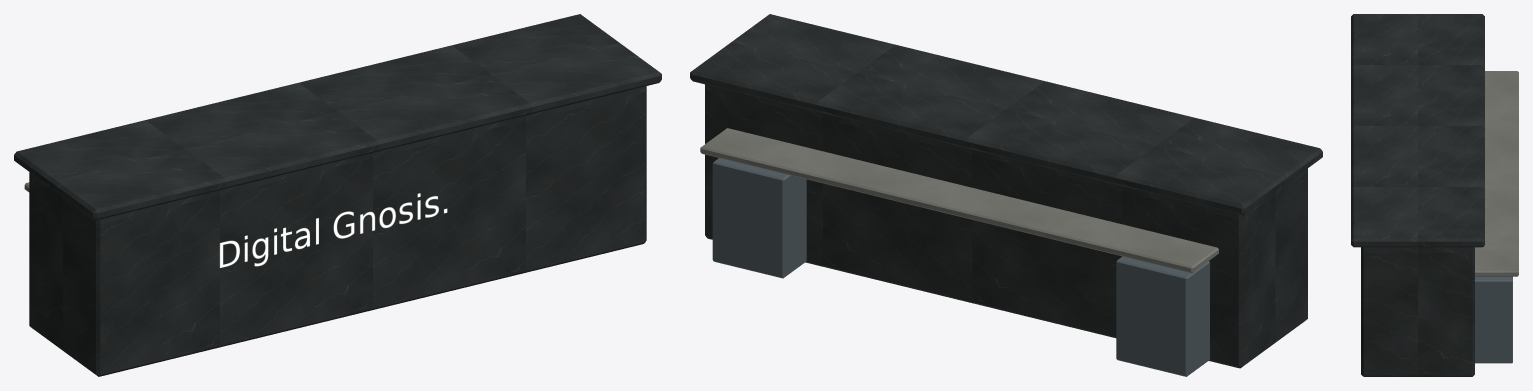
File: ReceptionDesk.glb
3 renders of one model, left to right at view 1: azimuth 30°, elevation 25°; view 2: azimuth 150°, elevation 25°; view 3: azimuth 270°, elevation 25°, orthographic. The views are drawn at different scales.
Visible parts, largest first — view 1: ReceptionDesk__BlackMarble__mesh, ReceptionDesk__Wordmark__mesh; view 2: ReceptionDesk__BlackMarble__mesh, ReceptionDesk__BlackenedSteel__mesh, ReceptionDesk__GraphiteLaminate__mesh; view 3: ReceptionDesk__BlackMarble__mesh, ReceptionDesk__GraphiteLaminate__mesh, ReceptionDesk__BlackenedSteel__mesh.
Boxes of the visible parts, box(x1,y1,x2,y2) form: ReceptionDesk__BlackMarble__mesh: box(14, 14, 661, 376); ReceptionDesk__Wordmark__mesh: box(220, 193, 447, 267); ReceptionDesk__BlackMarble__mesh: box(690, 14, 1322, 368); ReceptionDesk__BlackenedSteel__mesh: box(712, 158, 1209, 376); ReceptionDesk__GraphiteLaminate__mesh: box(700, 128, 1218, 273); ReceptionDesk__BlackMarble__mesh: box(1351, 14, 1484, 376); ReceptionDesk__GraphiteLaminate__mesh: box(1475, 71, 1518, 276); ReceptionDesk__BlackenedSteel__mesh: box(1475, 276, 1512, 363).
Bounding box in the file's own units: 3.72 × 1.1 × 1.16.
5 materials, 3 textured.
